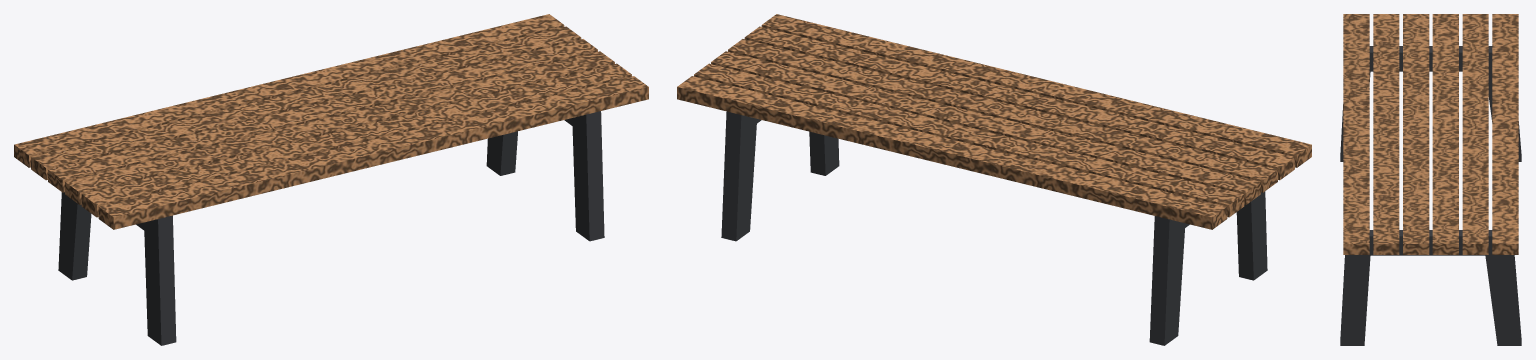
3 renders of one model, left to right at view 1: azimuth 30°, elevation 25°; view 2: azimuth 150°, elevation 25°; view 3: azimuth 270°, elevation 25°, orthographic. The views are drawn at different scales.
Visible parts, largest first — view 1: armrests=false;backHeight=0.8;backrest=false;depth=0.6;frame (×2); view 2: armrests=false;backHeight=0.8;backrest=false;depth=0.6;frame (×2); view 3: armrests=false;backHeight=0.8;backrest=false;depth=0.6;frame (×2).
Boxes of the visible parts, <box> form: armrests=false;backHeight=0.8;backrest=false;depth=0.6;frame (×2): <box>14,14,648,345</box>; armrests=false;backHeight=0.8;backrest=false;depth=0.6;frame (×2): <box>677,14,1311,345</box>; armrests=false;backHeight=0.8;backrest=false;depth=0.6;frame (×2): <box>1340,14,1521,345</box>.
Size of the model in its own units: 1.8 by 0.6 by 0.445.
Materials: 2 (1 with a texture image).
